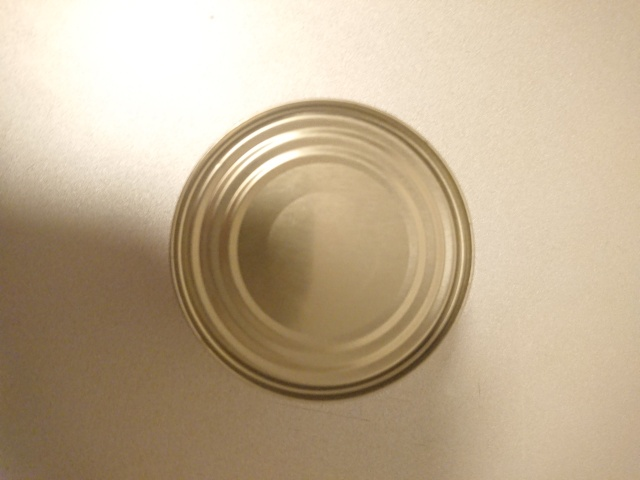Podravka Luncheon Meat 150g: (164, 95, 479, 404)
